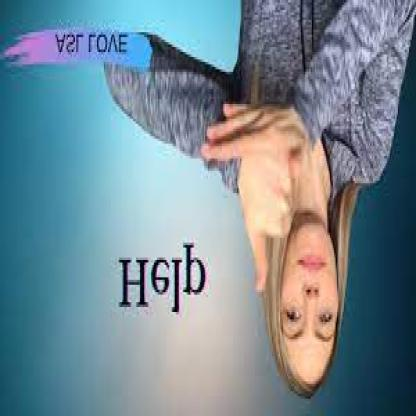help: (192, 76, 316, 306)
